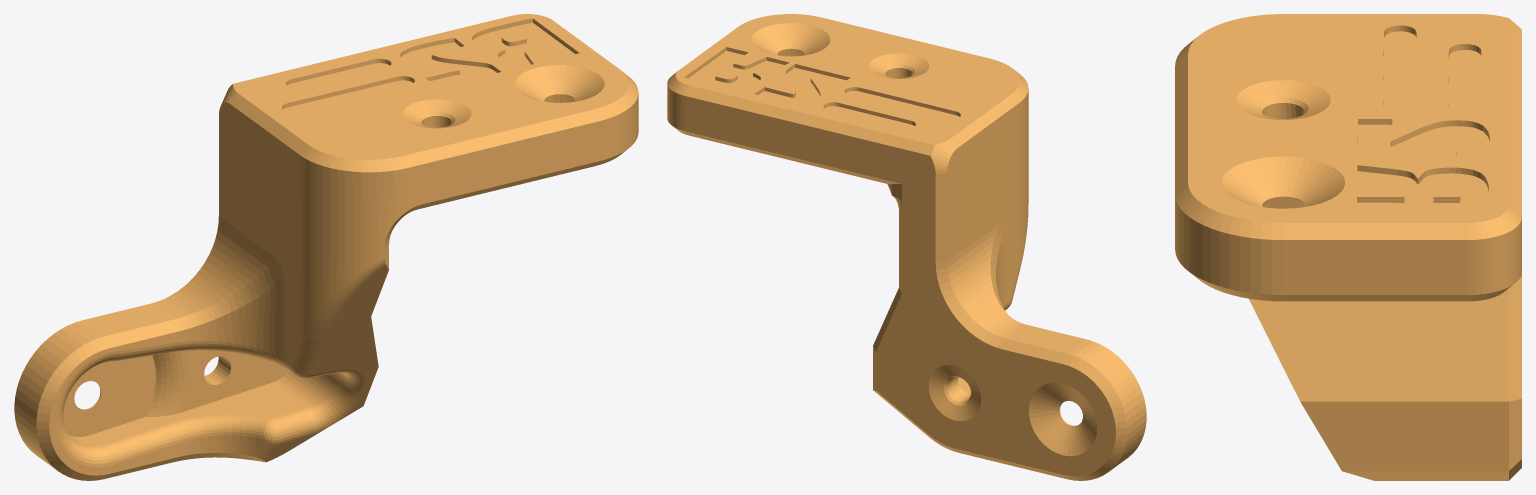
File: hip_r2.glb
3 renders of one model, left to right at view 1: azimuth 30°, elevation 25°; view 2: azimuth 150°, elevation 25°; view 3: azimuth 270°, elevation 25°, orthographic. The views are drawn at different scales.
Parts seen in each view (by area): view 1: geometry_0; view 2: geometry_0; view 3: geometry_0.
Boxes of the visible parts, x1=… form: geometry_0: x1=14, y1=14, x2=638, y2=480; geometry_0: x1=667, y1=14, x2=1146, y2=480; geometry_0: x1=1175, y1=14, x2=1521, y2=480.
Bounding box in the file's own units: 0.0495 × 0.0305 × 0.0203.
